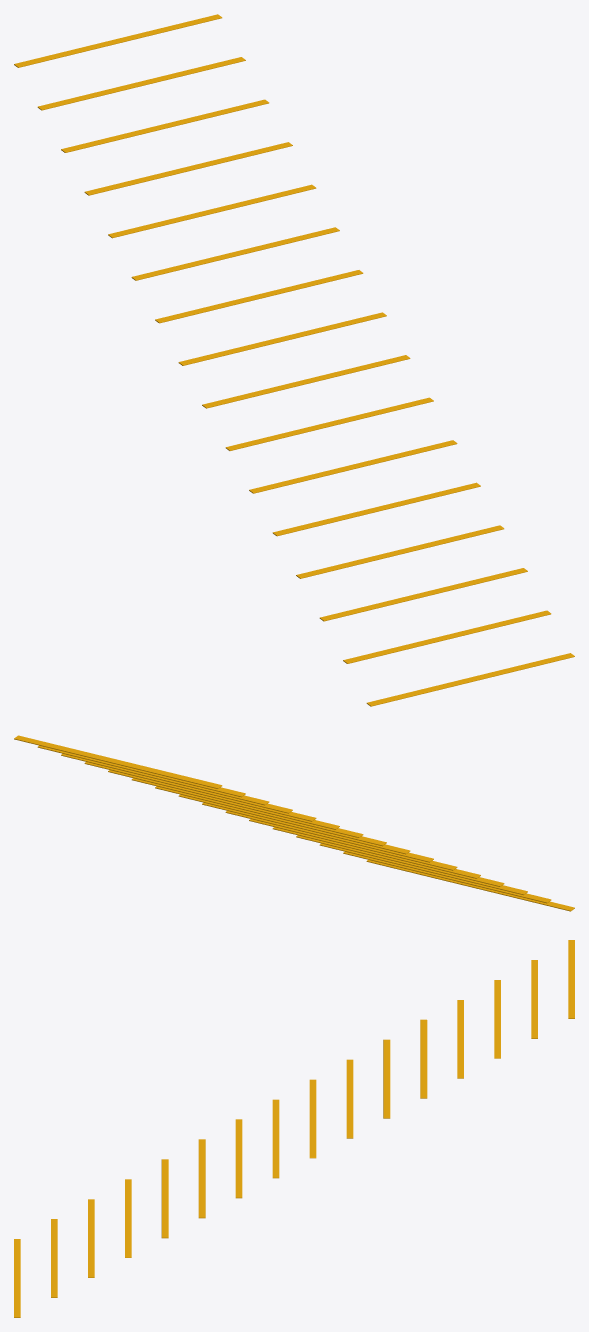
File: gteki_ik_stair_n16_r178_t299_w1515_nosing.glb
3 renders of one model, top to bottom at view 1: azimuth 30°, elevation 25°; view 2: azimuth 150°, elevation 25°; view 3: azimuth 270°, elevation 25°, orthographic. The views are drawn at different scales.
Parts seen in each view (by area): view 1: VIS_nosings; view 2: VIS_nosings; view 3: VIS_nosings.
Boxes of the visible parts, x1=… form: VIS_nosings: x1=14, y1=14, x2=574, y2=706; VIS_nosings: x1=14, y1=735, x2=574, y2=911; VIS_nosings: x1=14, y1=940, x2=574, y2=1317.
Bounding box in the file's own units: 1.5 × 2.68 × 4.54.
